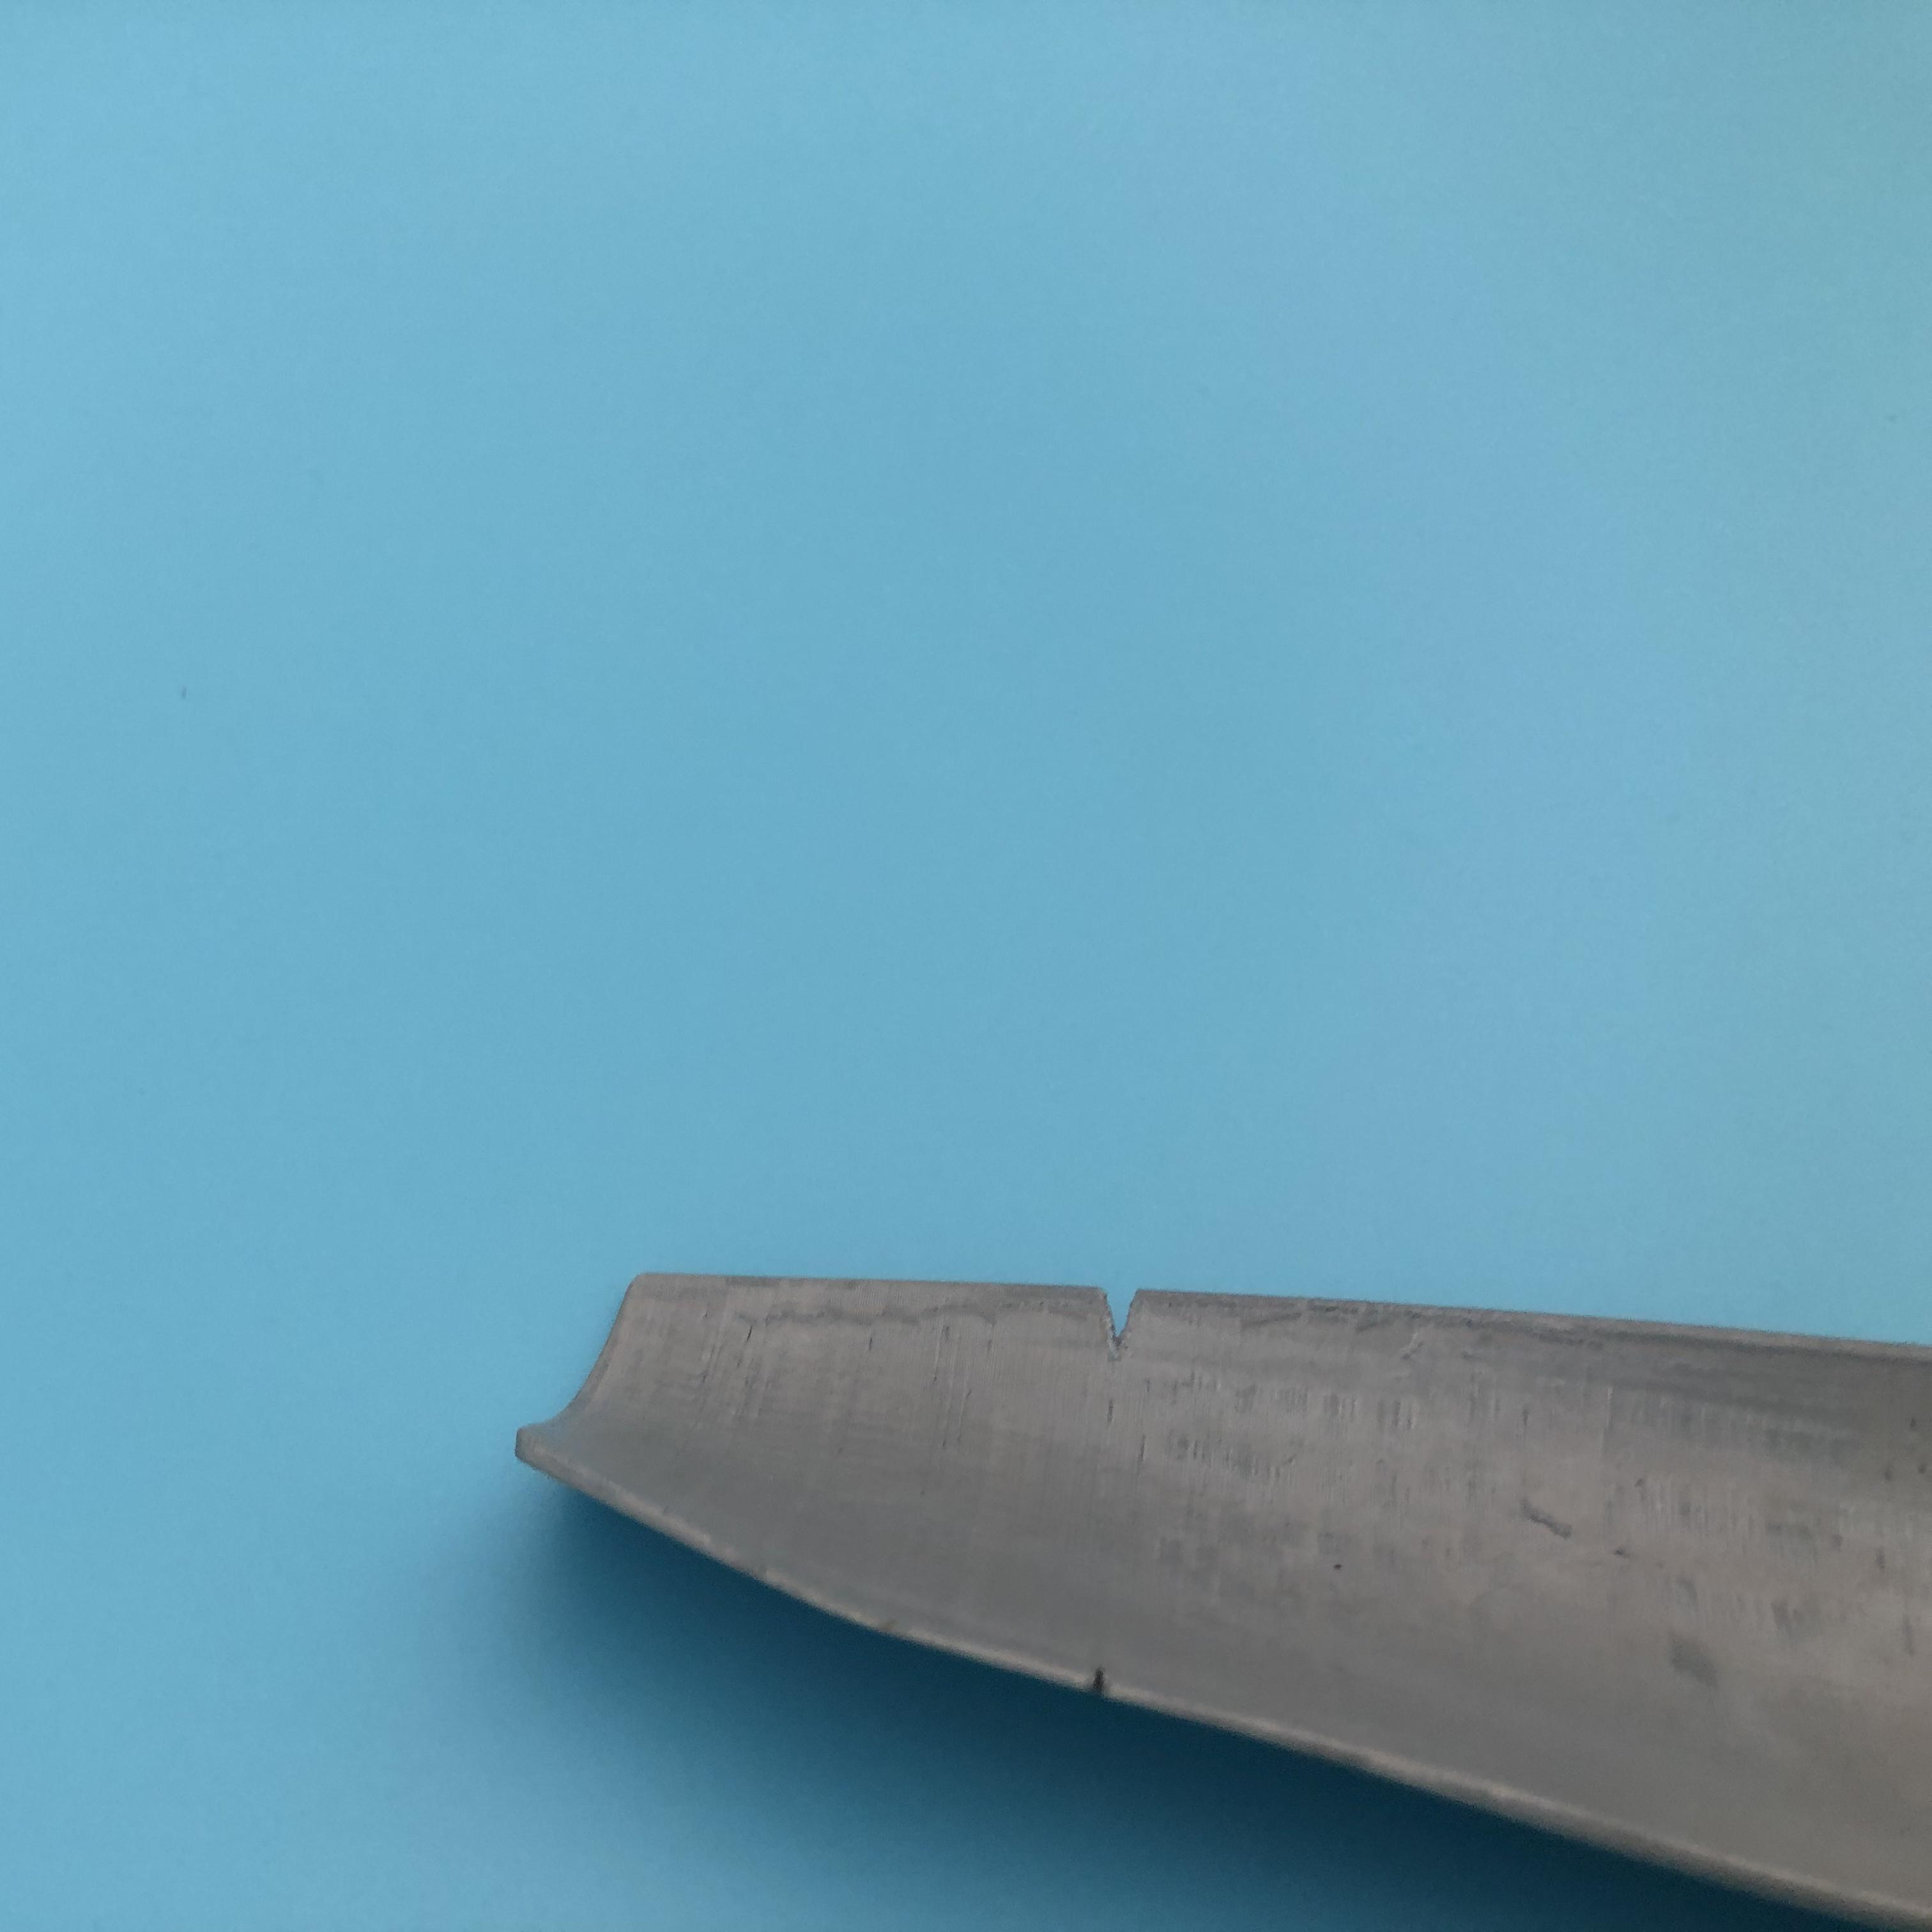groove: (1090, 1290, 1159, 1352), (1079, 1665, 1127, 1697)
